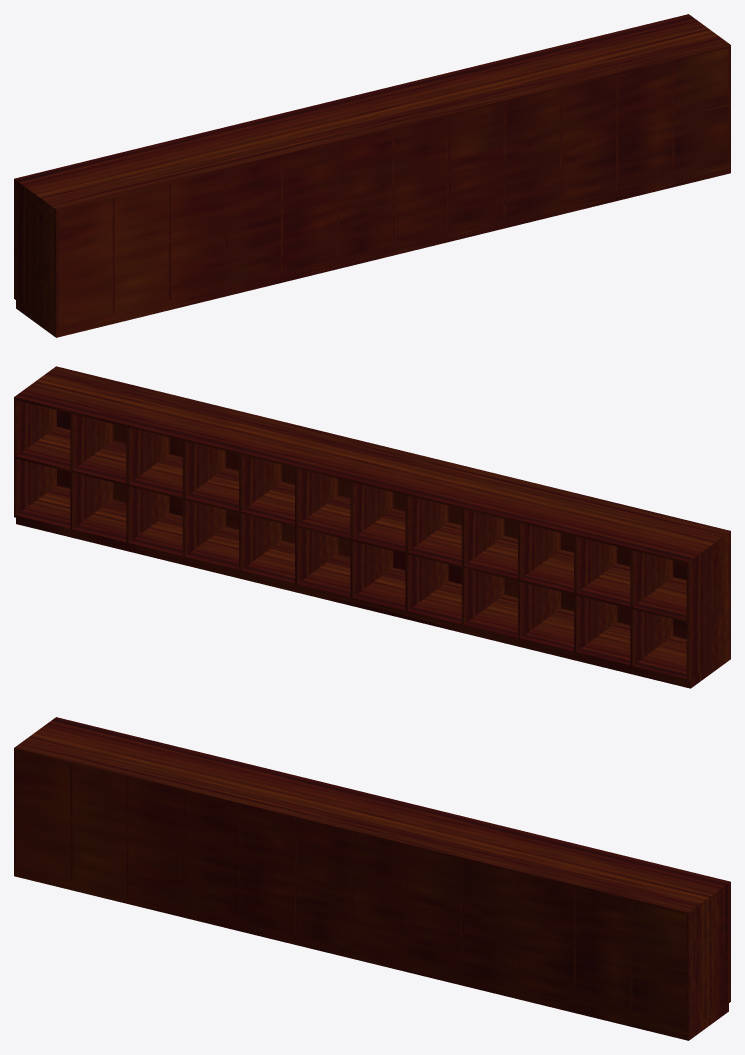
File: cube_shelves_wt.fbx
3 views of the same model, one above another, from view 1: azimuth 30°, elevation 25°; view 2: azimuth 150°, elevation 25°; view 3: azimuth 330°, elevation 25° (orthographic).
Visible parts, largest first — view 1: Shelf back, SHelf Top, Base, side, Shelf Bottm, Shelf middle; view 2: SHelf Top, Shelf Bottm, Shelf middle, Shelf back, side, Base, side.004, side.009, side.008, side.003, side.012, side.006 (+6 smaller); view 3: Shelf back, SHelf Top, Base, side.001, Shelf Bottm, Shelf middle.
Boxes of the visible parts, bbox=[...] form: Shelf back: bbox=[55, 48, 728, 326]; SHelf Top: bbox=[14, 14, 730, 211]; Base: bbox=[16, 165, 730, 337]; side: bbox=[14, 181, 58, 328]; Shelf Bottm: bbox=[14, 162, 730, 329]; Shelf middle: bbox=[14, 104, 730, 270]; SHelf Top: bbox=[14, 366, 730, 563]; Shelf Bottm: bbox=[14, 485, 730, 681]; Shelf middle: bbox=[14, 426, 730, 622]; Shelf back: bbox=[57, 410, 730, 650]; side: bbox=[686, 533, 730, 679]; Base: bbox=[16, 518, 730, 688]; side.004: bbox=[182, 441, 225, 556]; side.009: bbox=[461, 508, 504, 624]; side.008: bbox=[405, 494, 448, 611]; side.003: bbox=[126, 427, 169, 542]; side.012: bbox=[630, 549, 673, 666]; side.006: bbox=[350, 480, 393, 598]; Shelf back: bbox=[16, 751, 689, 1029]; SHelf Top: bbox=[14, 717, 730, 914]; Base: bbox=[14, 868, 728, 1040]; side.001: bbox=[686, 884, 730, 1030]; Shelf Bottm: bbox=[14, 865, 730, 1032]; Shelf middle: bbox=[14, 807, 730, 973].
Size of the model in its own units: 600 by 109 by 65.
1 material, 1 textured.
